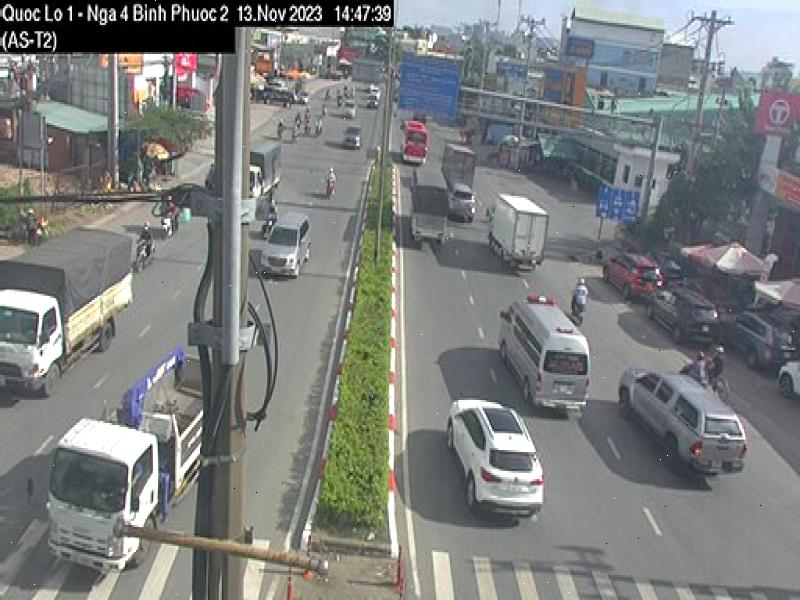truck: (31, 346, 212, 570), (0, 223, 137, 400)
